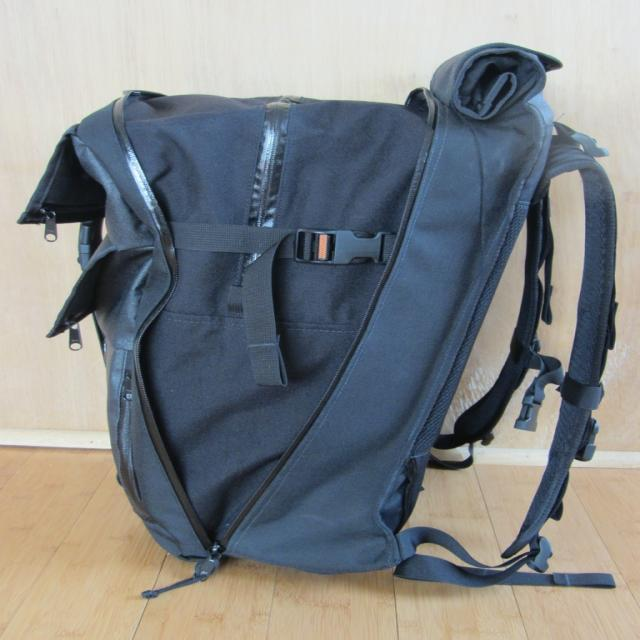backpack: (11, 42, 604, 590)
